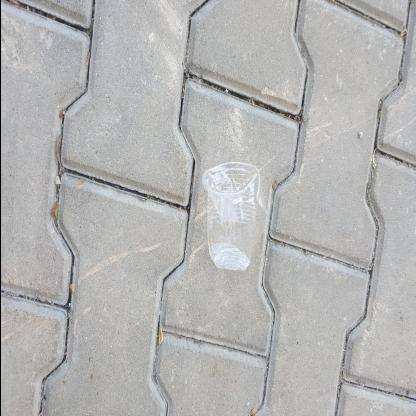plastik: (145, 200, 254, 260)
